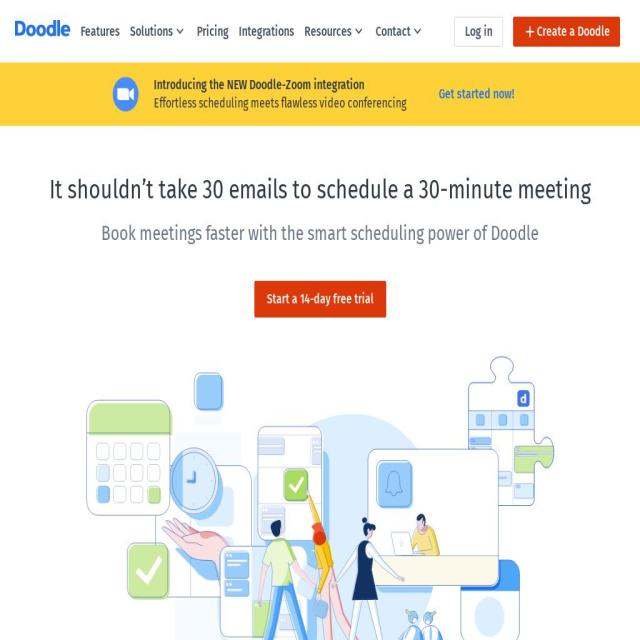button: (254, 281, 386, 317), (427, 76, 528, 112), (513, 16, 620, 46), (300, 16, 370, 46), (125, 16, 192, 46), (234, 16, 299, 46), (370, 16, 430, 46), (454, 16, 504, 46), (76, 16, 125, 46), (192, 16, 234, 46)
heading: (15, 172, 625, 206), (15, 220, 625, 248), (154, 94, 407, 113), (154, 76, 407, 94)
image: (85, 351, 555, 640), (112, 76, 140, 112)
text: (266, 289, 374, 309), (439, 84, 515, 104), (239, 20, 294, 42), (537, 23, 610, 39), (304, 20, 352, 42), (130, 20, 173, 42), (81, 20, 120, 42), (376, 20, 410, 42), (197, 20, 229, 42), (465, 23, 493, 39)
